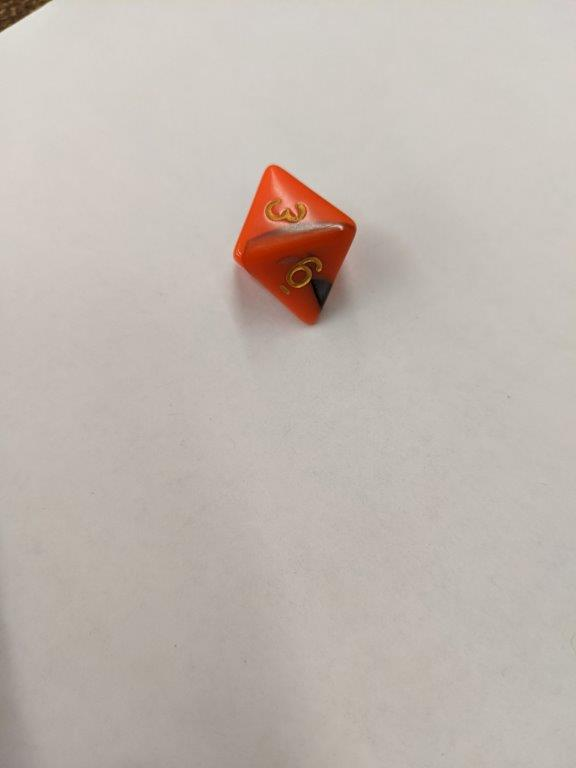d8-3: (231, 163, 361, 328)
